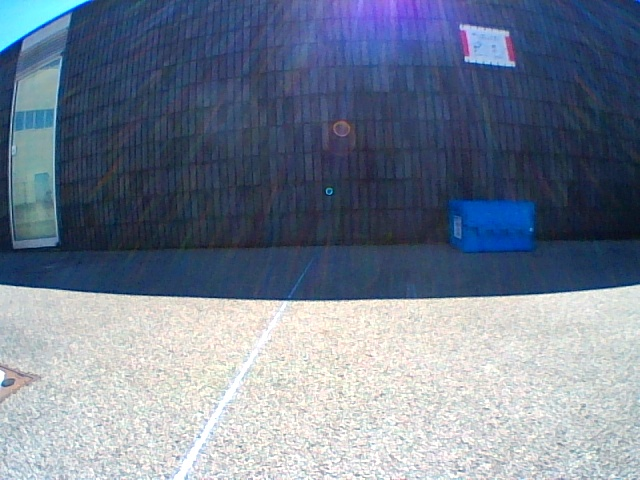blue_box: (448, 199, 535, 252)
tag: (454, 217, 460, 237)
